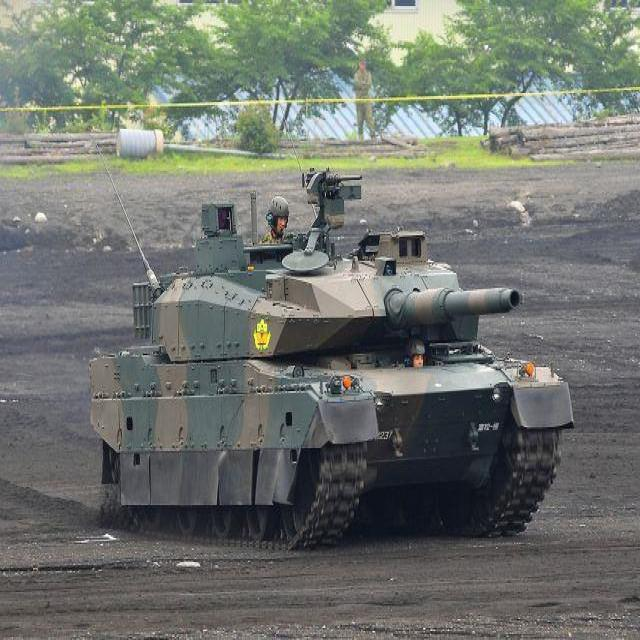Tanks: (58, 81, 608, 623)
